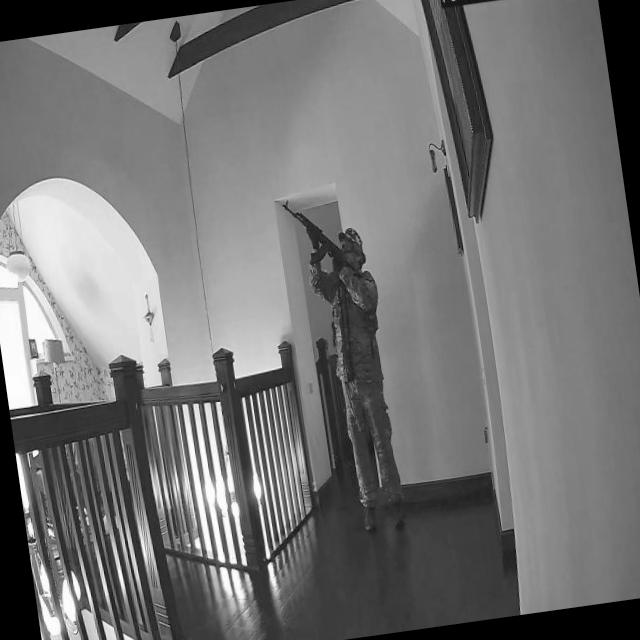gun: (280, 194, 358, 272)
person with a gun: (279, 191, 410, 538)
